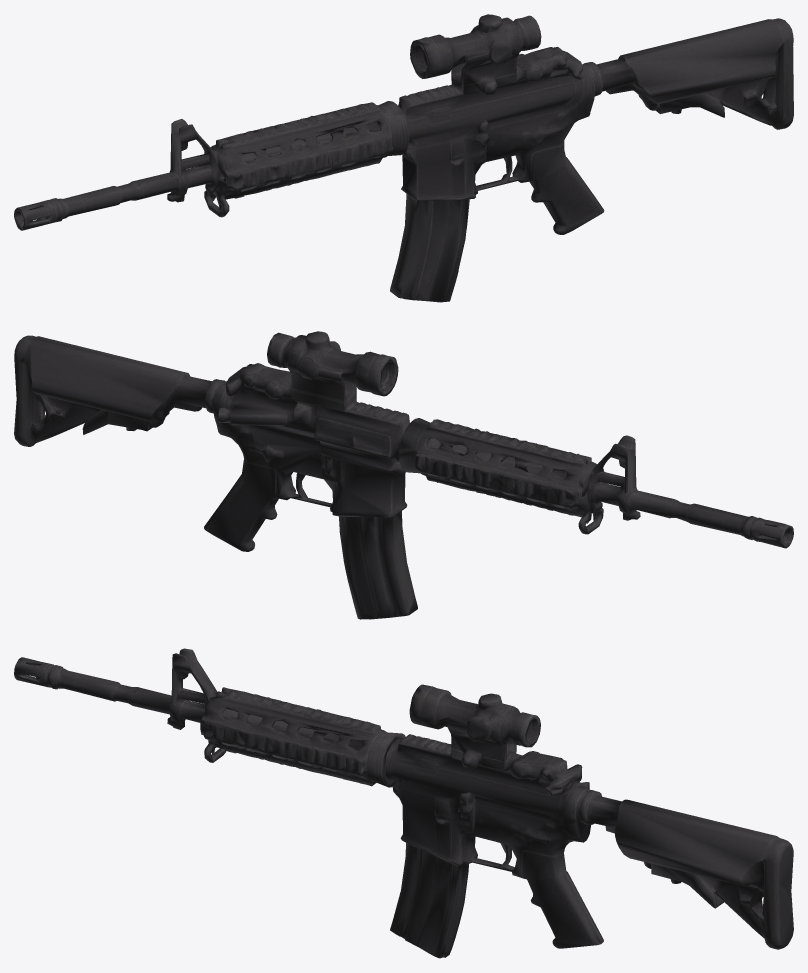
Rendered from wpn_rifle.glb.
3 views of the same model, one above another, from view 1: azimuth 30°, elevation 25°; view 2: azimuth 150°, elevation 25°; view 3: azimuth 330°, elevation 25° (orthographic).
Parts seen in each view (by area): view 1: Mesh_0; view 2: Mesh_0; view 3: Mesh_0.
Part boxes in pixels (x1=…): Mesh_0: x1=14, y1=14, x2=793, y2=302; Mesh_0: x1=14, y1=331, x2=793, y2=619; Mesh_0: x1=14, y1=648, x2=793, y2=958.
Size of the model in its own units: 1.9 by 0.6349 by 0.1678.
Materials: 1 (1 with a texture image).
